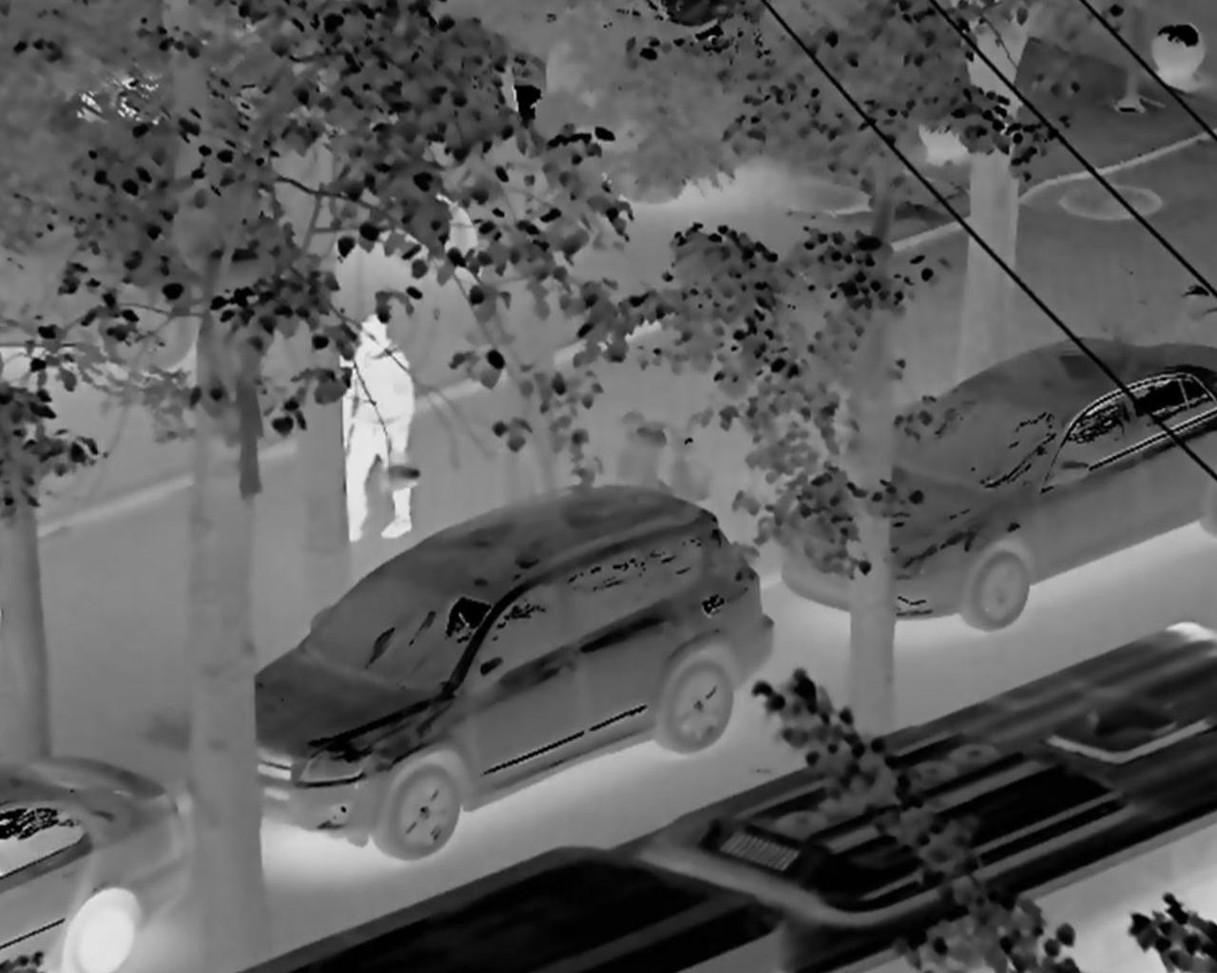person: (332, 312, 415, 552)
